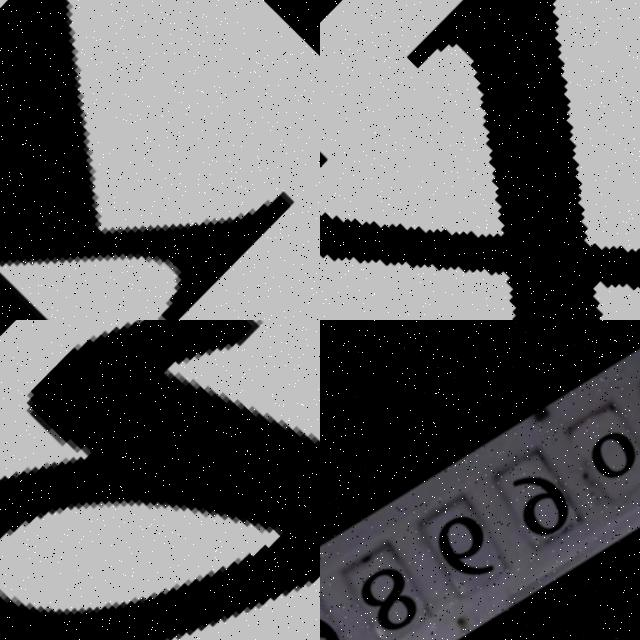0: (549, 399, 640, 533)
6: (402, 490, 526, 623)
8: (322, 538, 450, 640)
9: (475, 446, 601, 580)
A: (0, 320, 320, 640)
K: (0, 0, 320, 320)
X: (320, 0, 640, 320)
